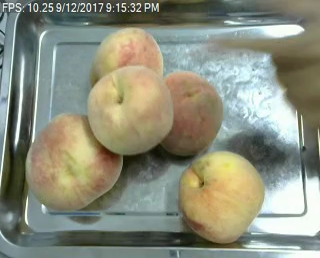Peach: (27, 113, 121, 210), (177, 150, 264, 242), (88, 65, 176, 155), (157, 70, 224, 155), (92, 28, 162, 87)
